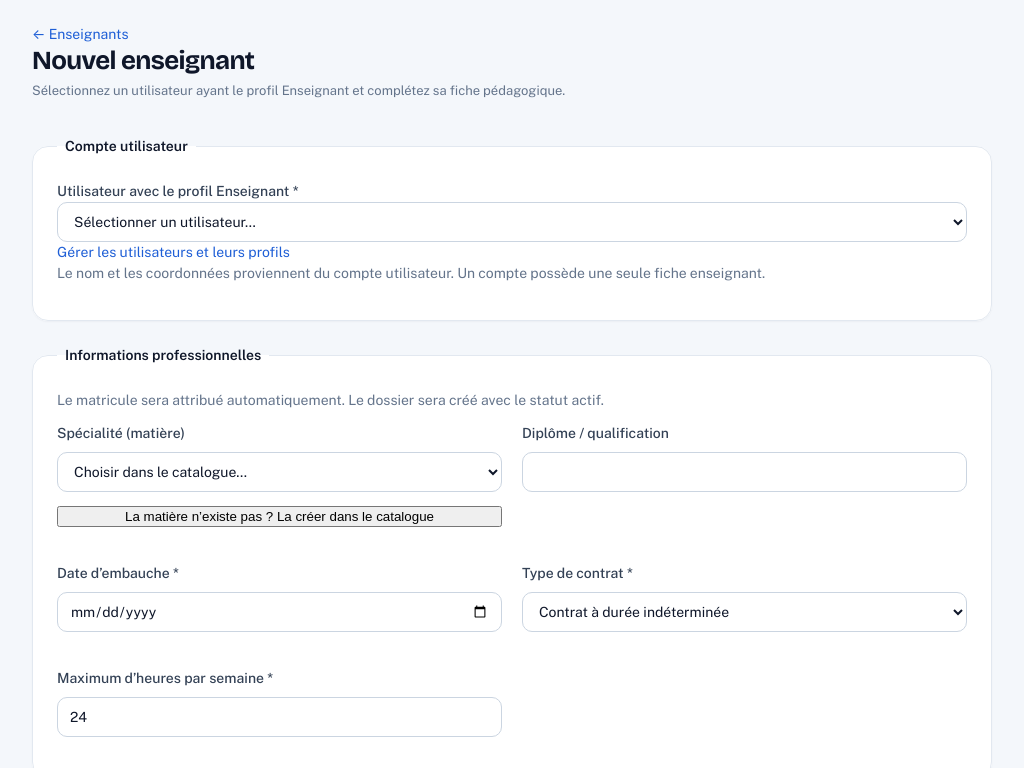
Teacher creation › shows custom speciality after changing the selection and clears its validation when leaving it
Select "Autre (saisie libre)…" in the dropdown with id "speciality" at (280, 472), box left=57, top=452, right=502, bottom=492
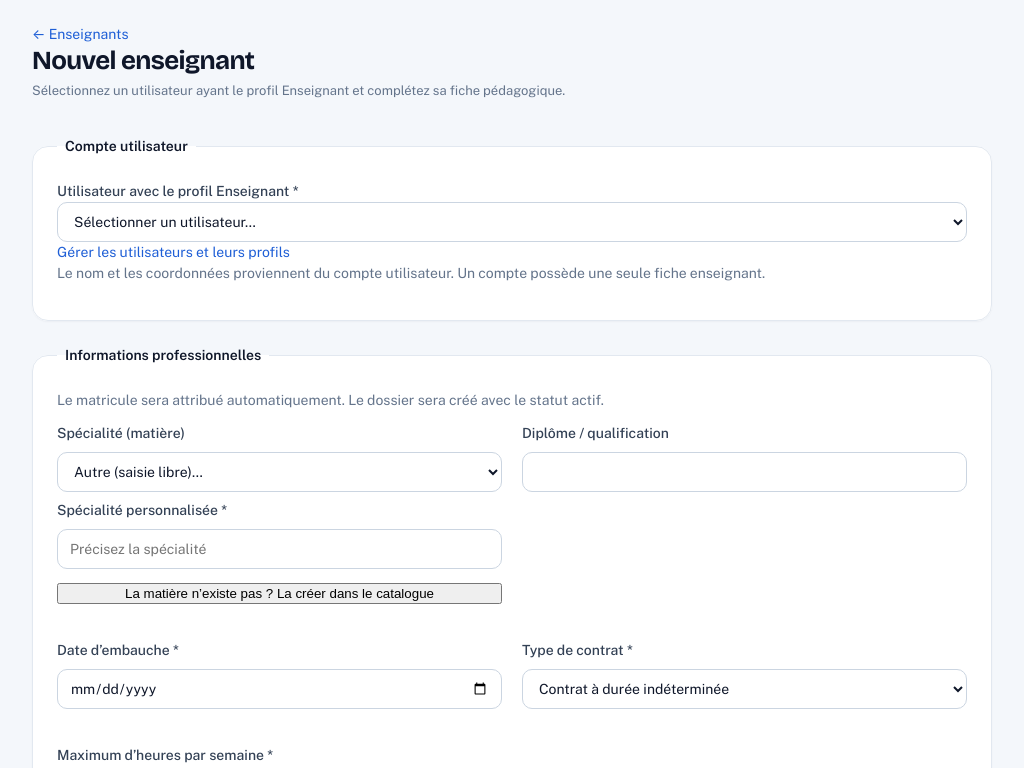
Now the field with id "specialityCustom" is shown, box left=57, top=529, right=502, bottom=569
